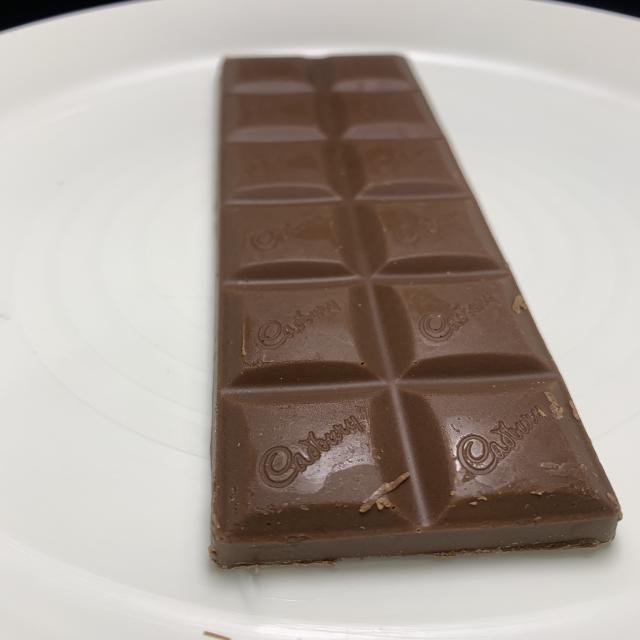Chocolate: (205, 56, 618, 573)
